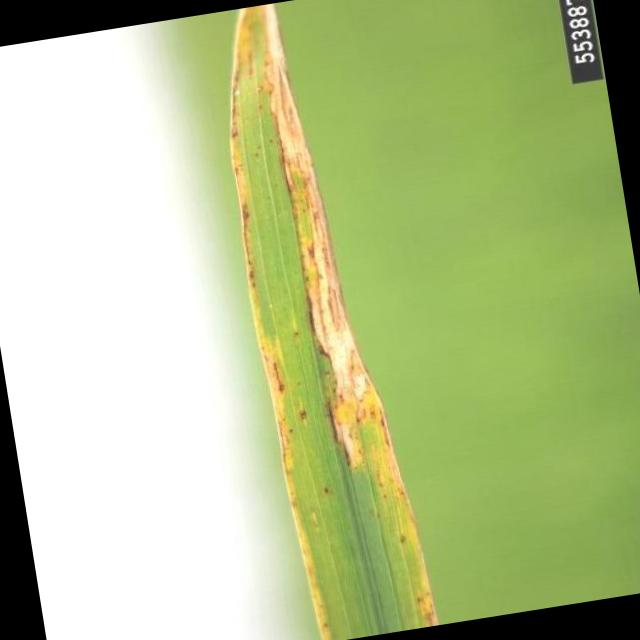Rice_Bacterial_Blight: (195, 0, 448, 603)
